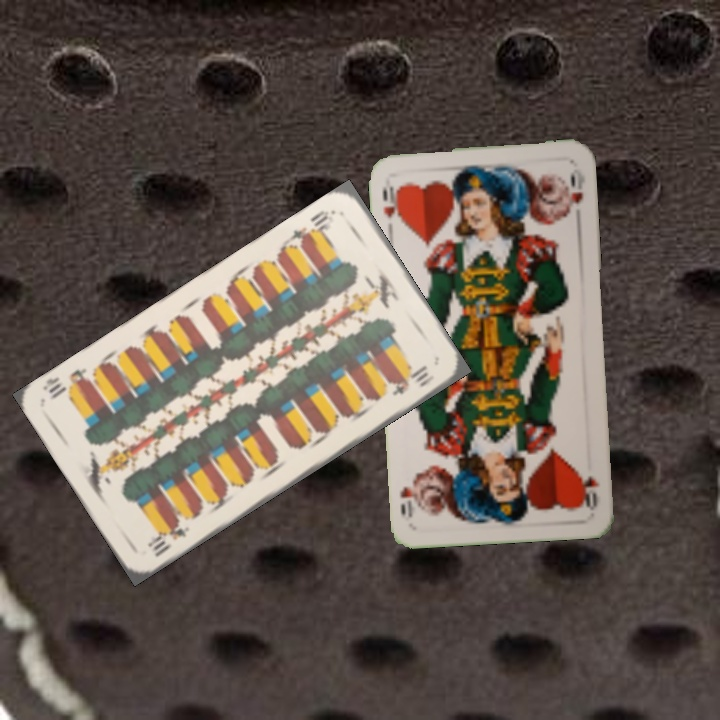E10: (285, 205, 339, 250), (143, 517, 193, 560)
HO: (378, 181, 404, 226), (578, 469, 602, 512)
